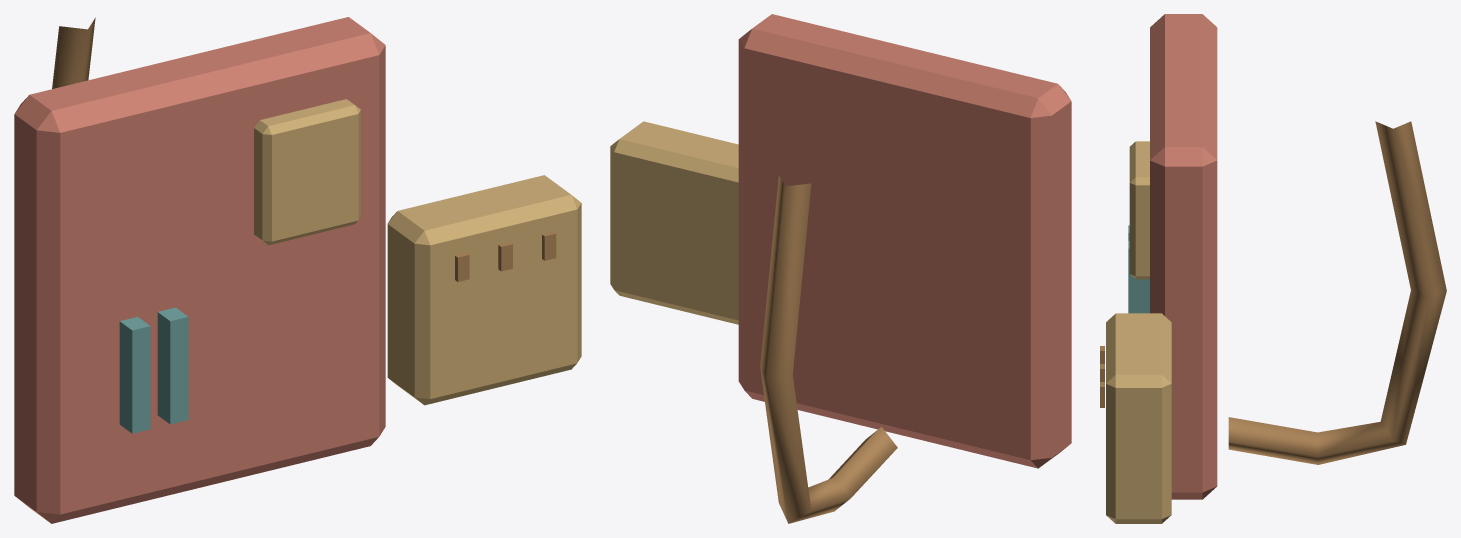
The model's file is object_decorator.glb.
3 views of the same model, side by side, from view 1: azimuth 30°, elevation 25°; view 2: azimuth 150°, elevation 25°; view 3: azimuth 270°, elevation 25° (orthographic). The views are drawn at different scales.
Parts seen in each view (by area): view 1: object_decorator; view 2: object_decorator; view 3: object_decorator.
Boxes of the visible parts, x1,y1,x2,y2 form: object_decorator: (14,17,581,523); object_decorator: (610,14,1071,523); object_decorator: (1100,14,1446,523).
Bounding box in the file's own units: 0.34 × 0.2834 × 0.2317.
